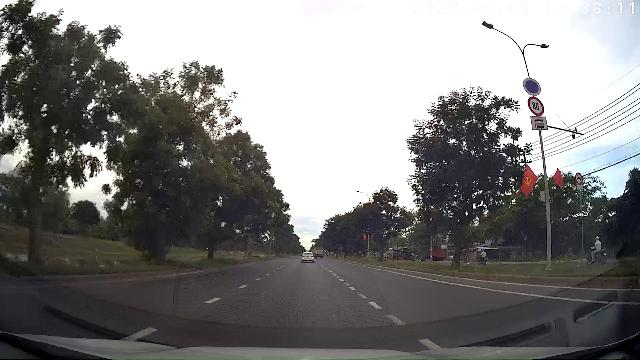127-toc-do-toi-da-80: (528, 97, 545, 115)
